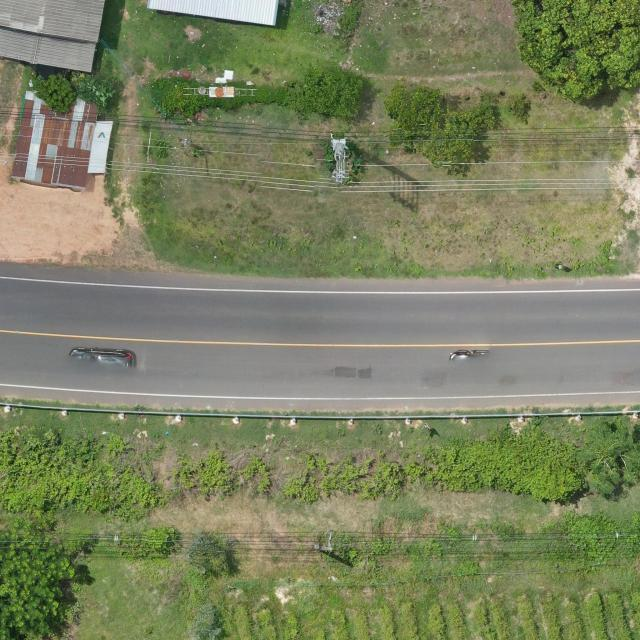Tree: (511, 0, 640, 104), (384, 83, 500, 173), (0, 532, 78, 640), (299, 66, 366, 120), (588, 446, 630, 497), (30, 72, 78, 114), (76, 74, 118, 115), (186, 529, 218, 576), (192, 600, 226, 640), (508, 93, 530, 124)
